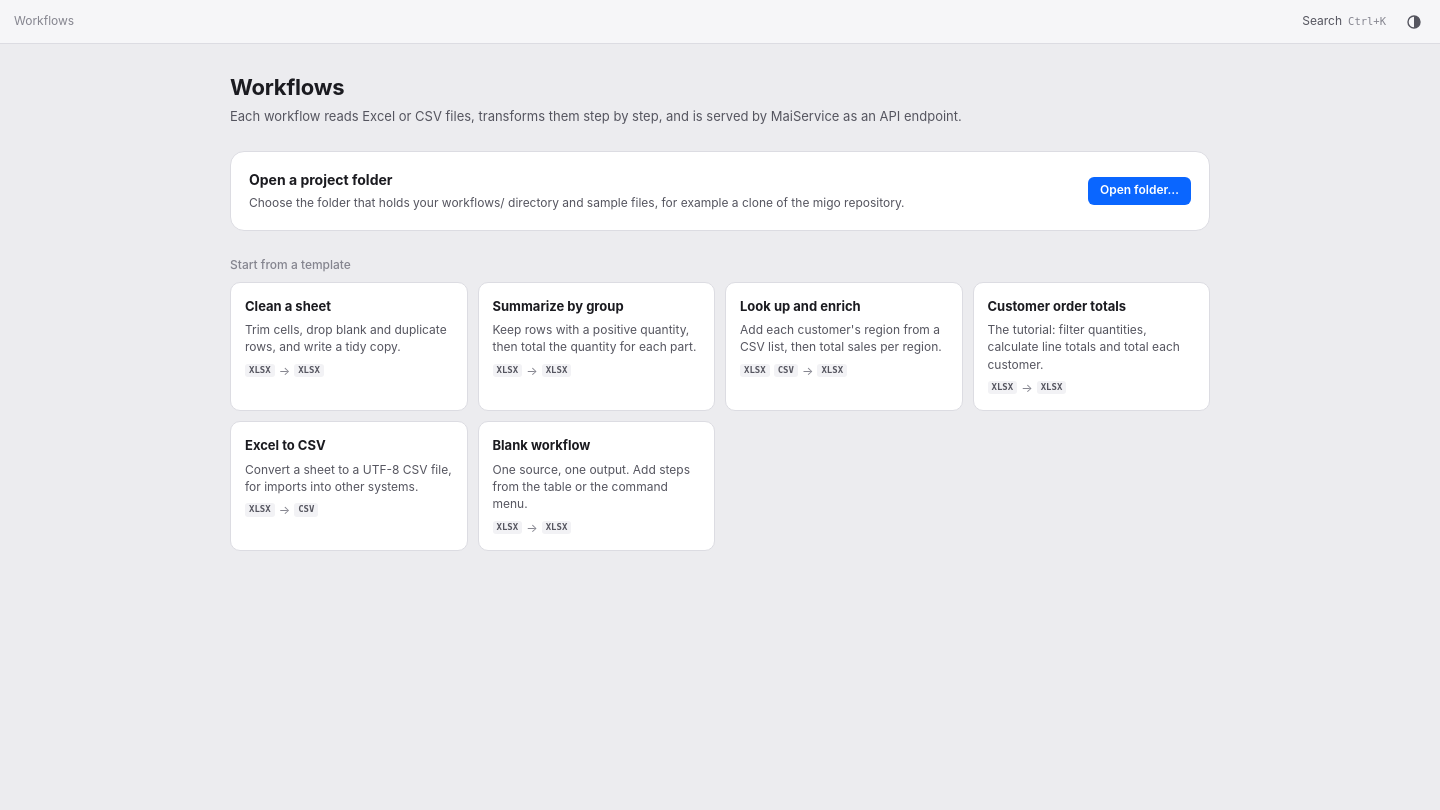
Test: previews the replacement binding and ignores a late trace from the old sample
Click the button "Open folder…".
click(1139, 191)  # box 1088,177 -> 1191,205
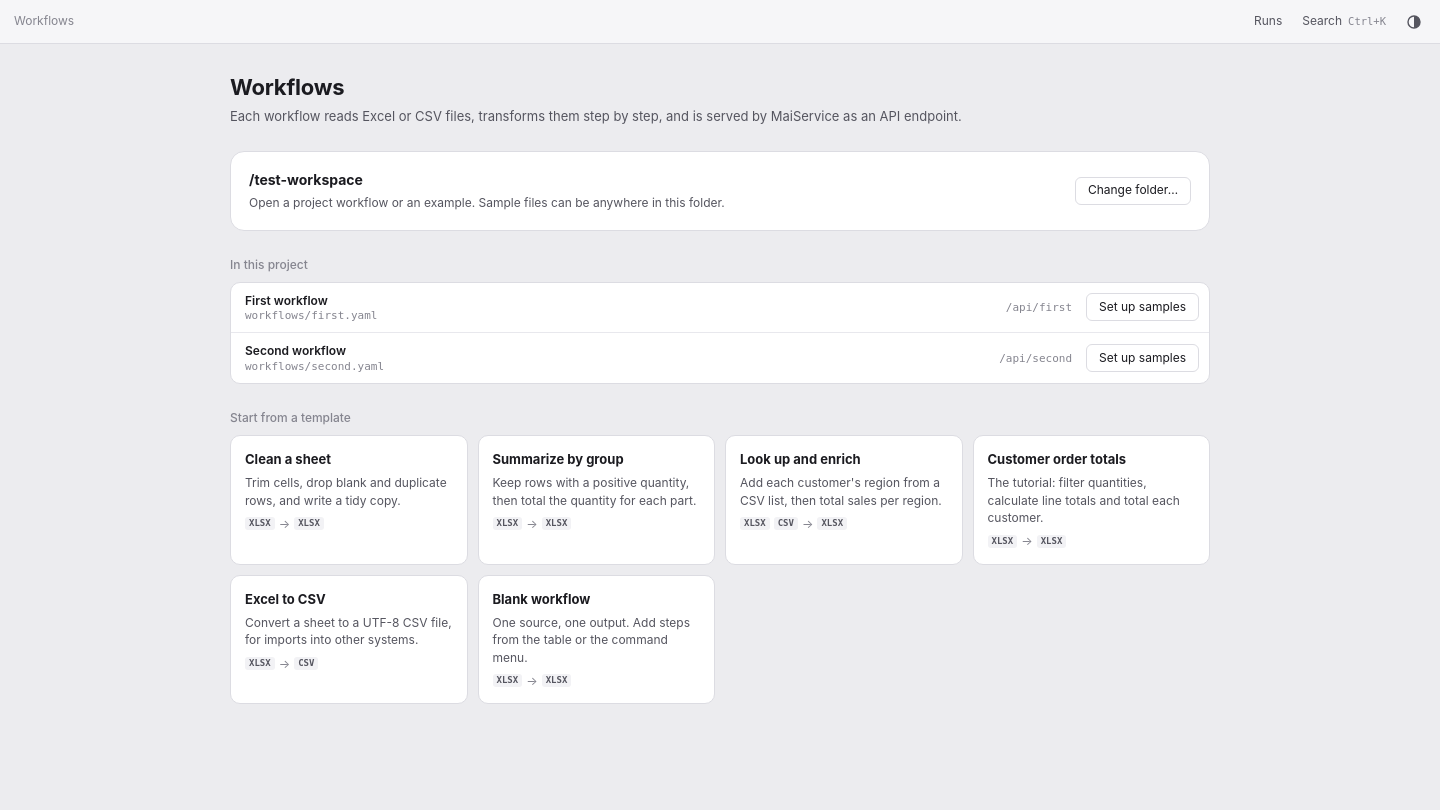
Click the button "First workflow workflows/first.yaml /api/first".
click(286, 300)  # box 231,283 -> 1086,332
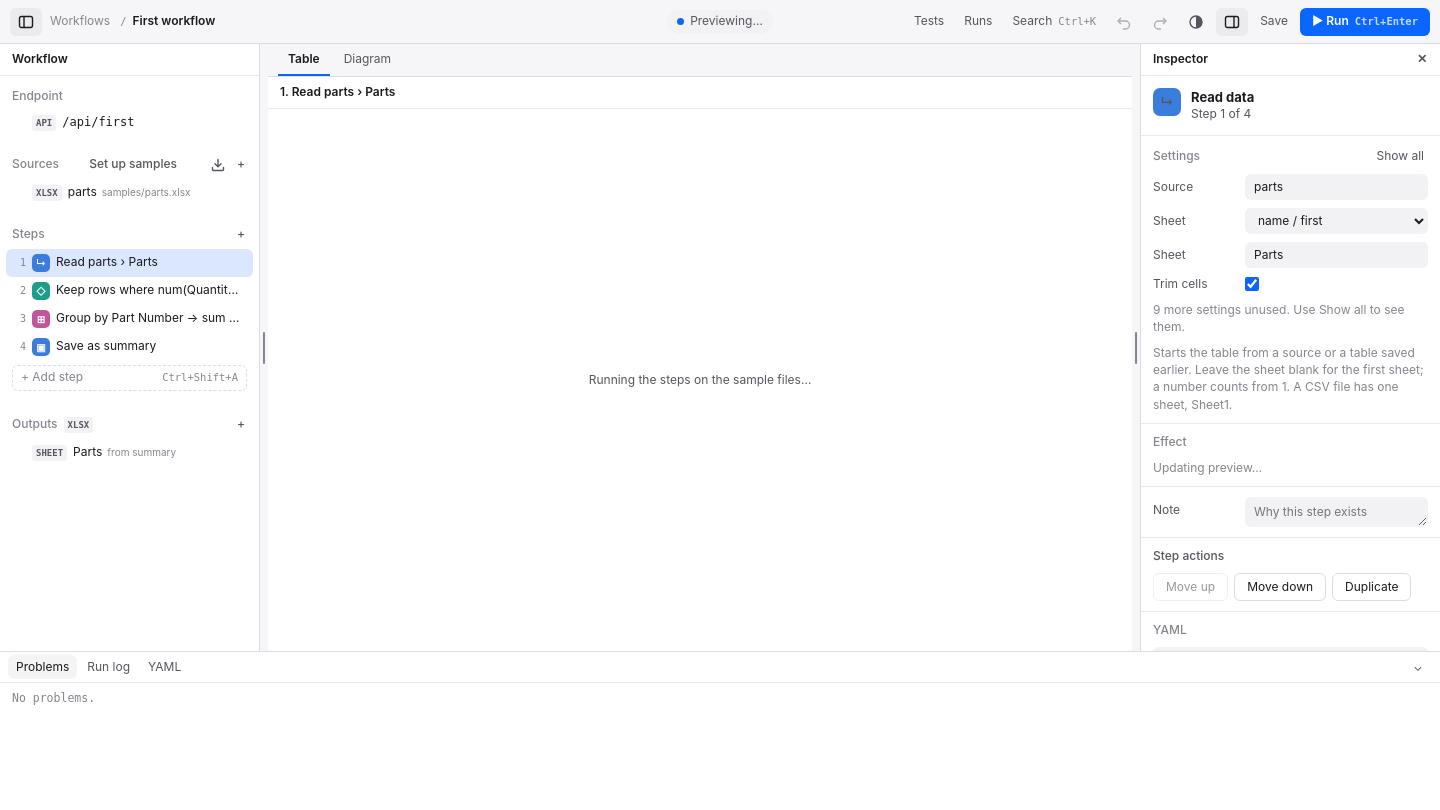
Click the button named "parts samples/parts.xlsx".
click(111, 193)  # box 32,184 -> 190,201
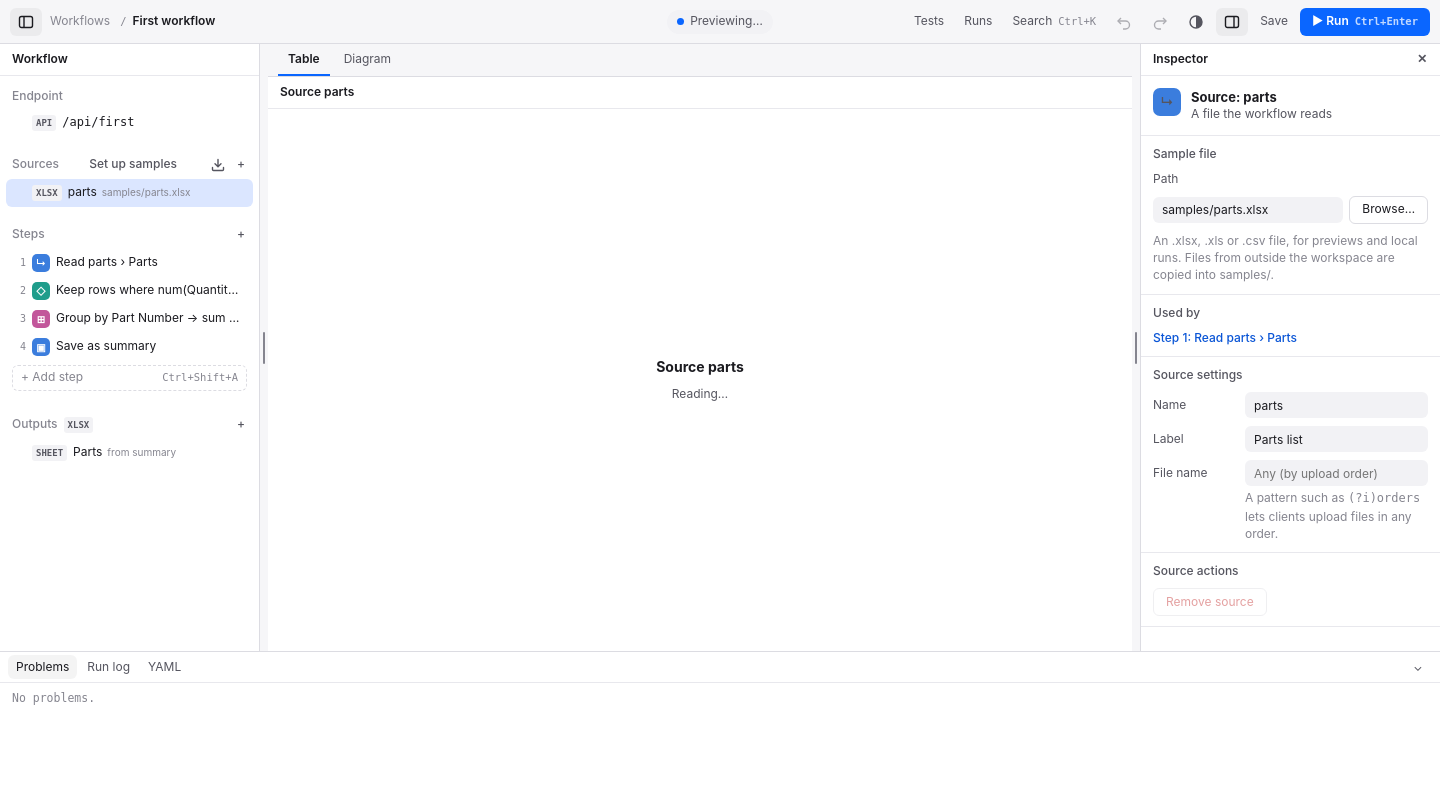
Click the button "Browse…".
click(1389, 210)  # box 1349,196 -> 1428,224
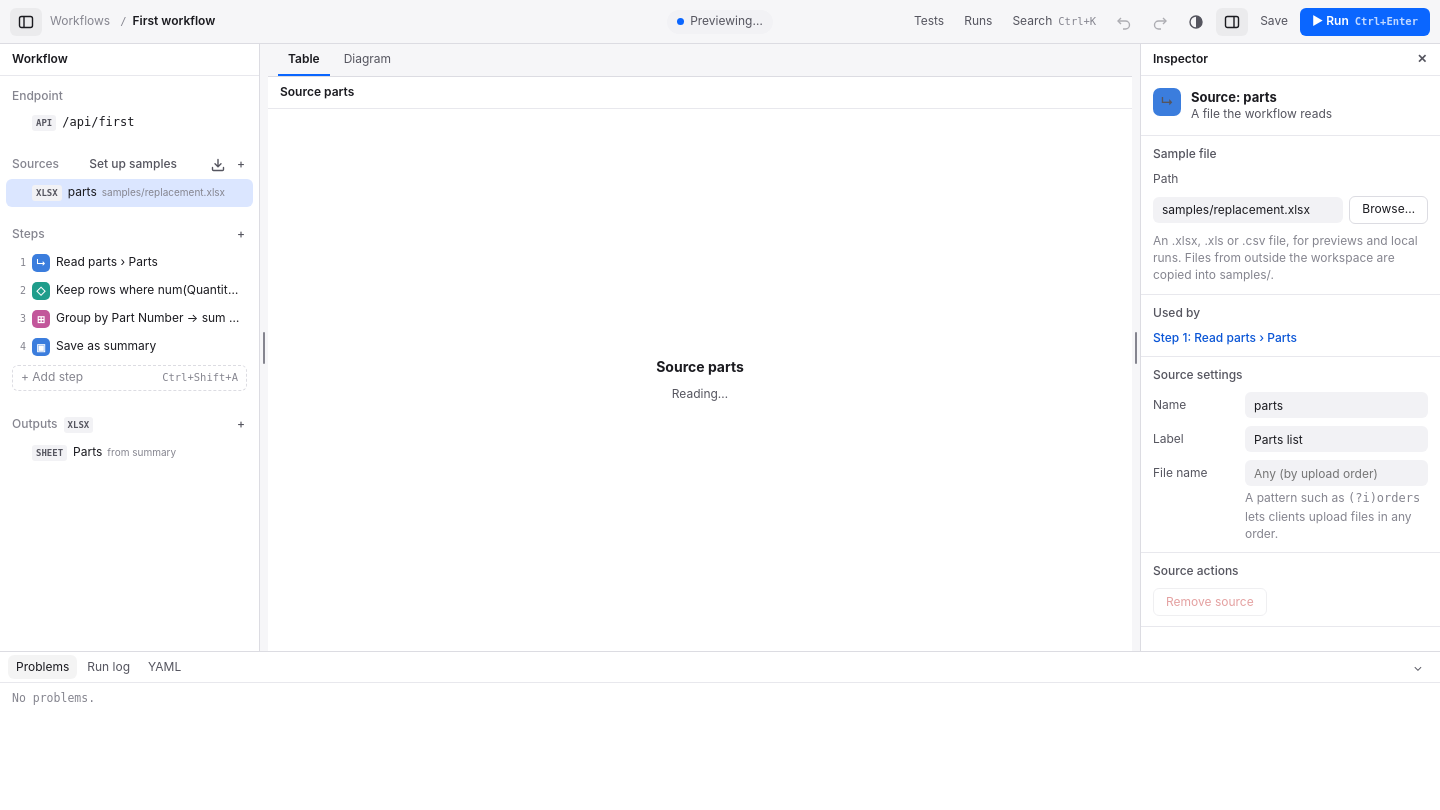
Click the button titled "Read parts".
click(89, 263)  # box 20,254 -> 158,272
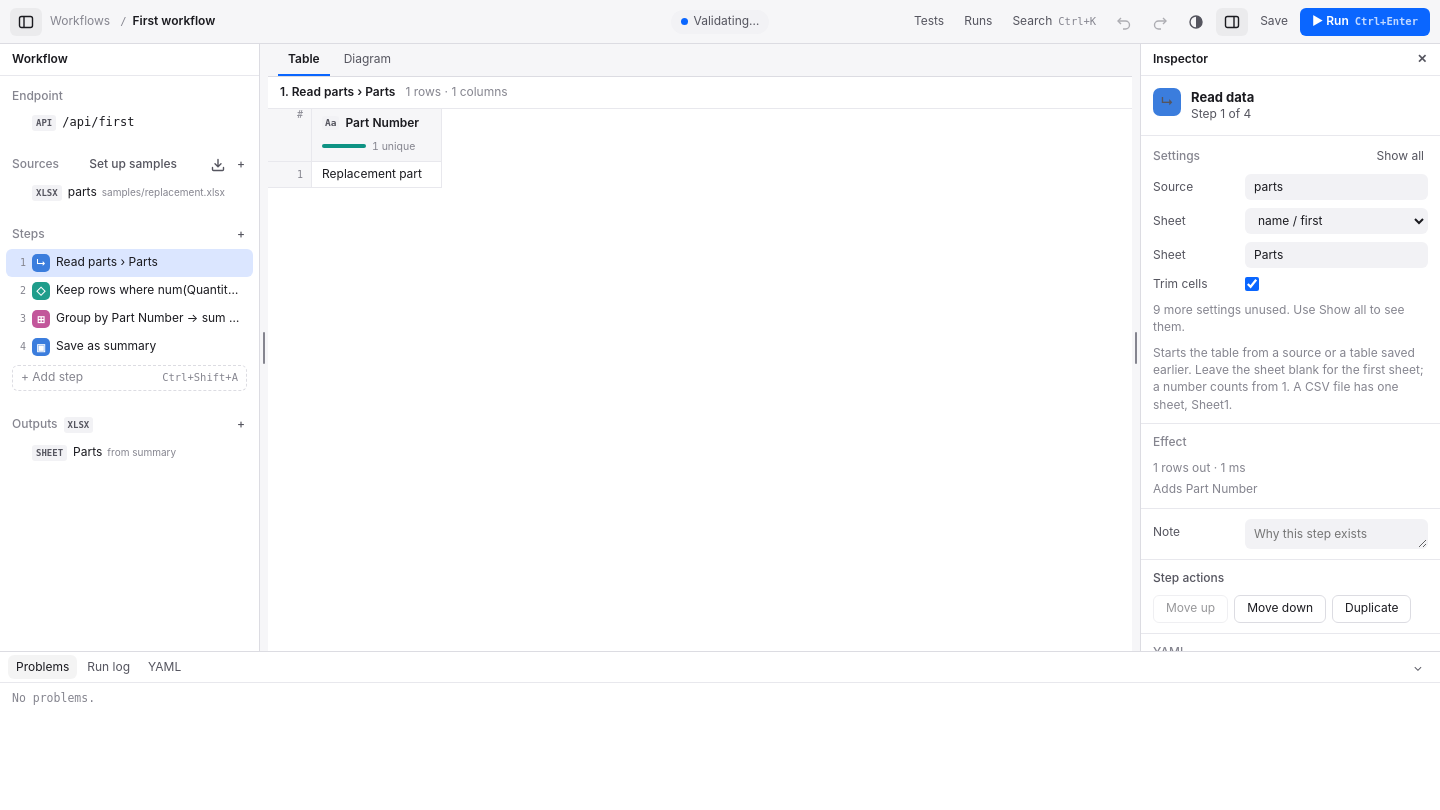
Now the text "Replacement part" is shown, box 312,162 -> 442,188
